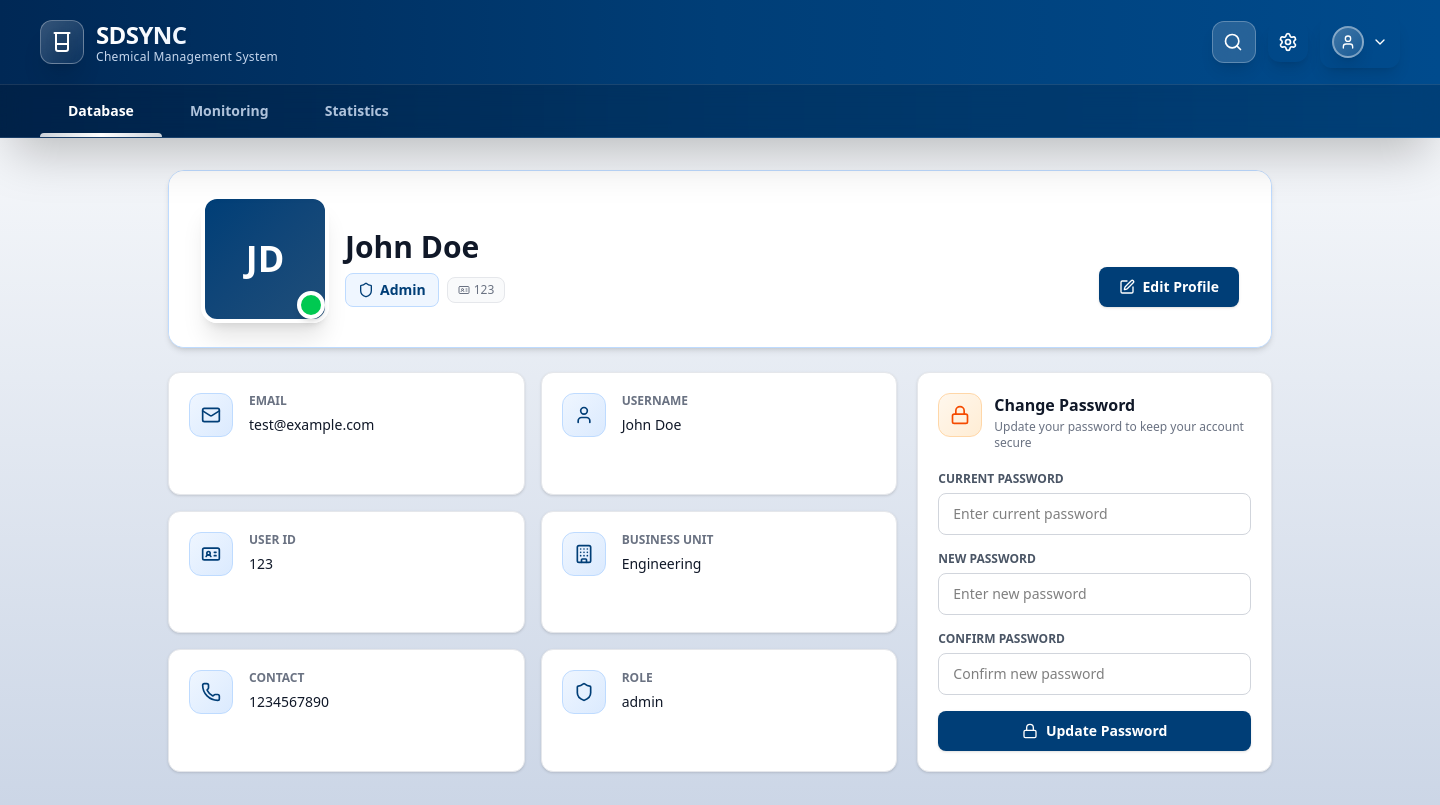
Scenario: Profile page › cancel button closes edit form
The width and height of the screenshot is (1440, 805).
Click the button "Edit Profile": (1169,287) 1098,267 -> 1239,307
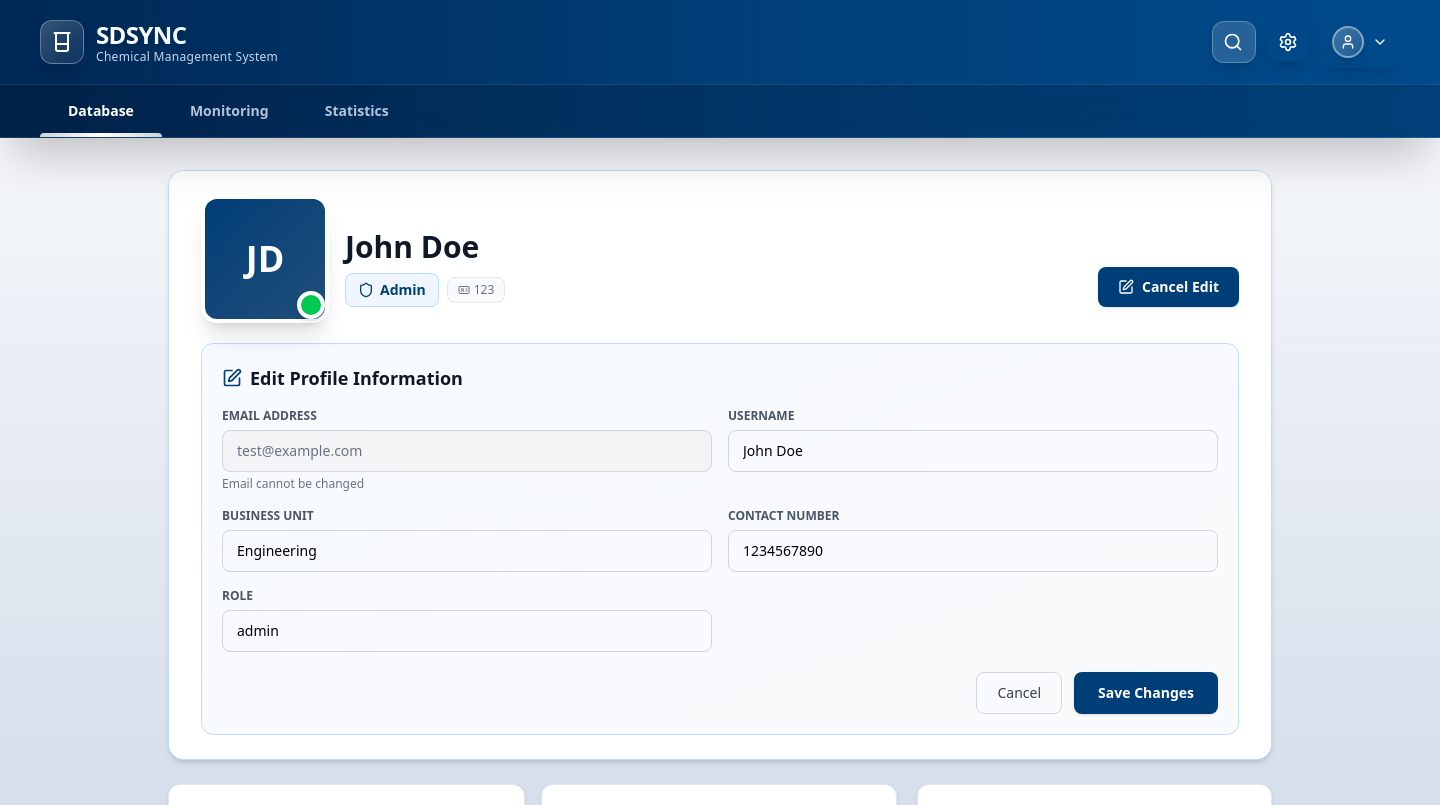
expect the form with test id "edit-profile-form" is shown: met, box 201,343 -> 1239,735
Click the button "Cancel Edit": (1168,287) 1098,267 -> 1239,307
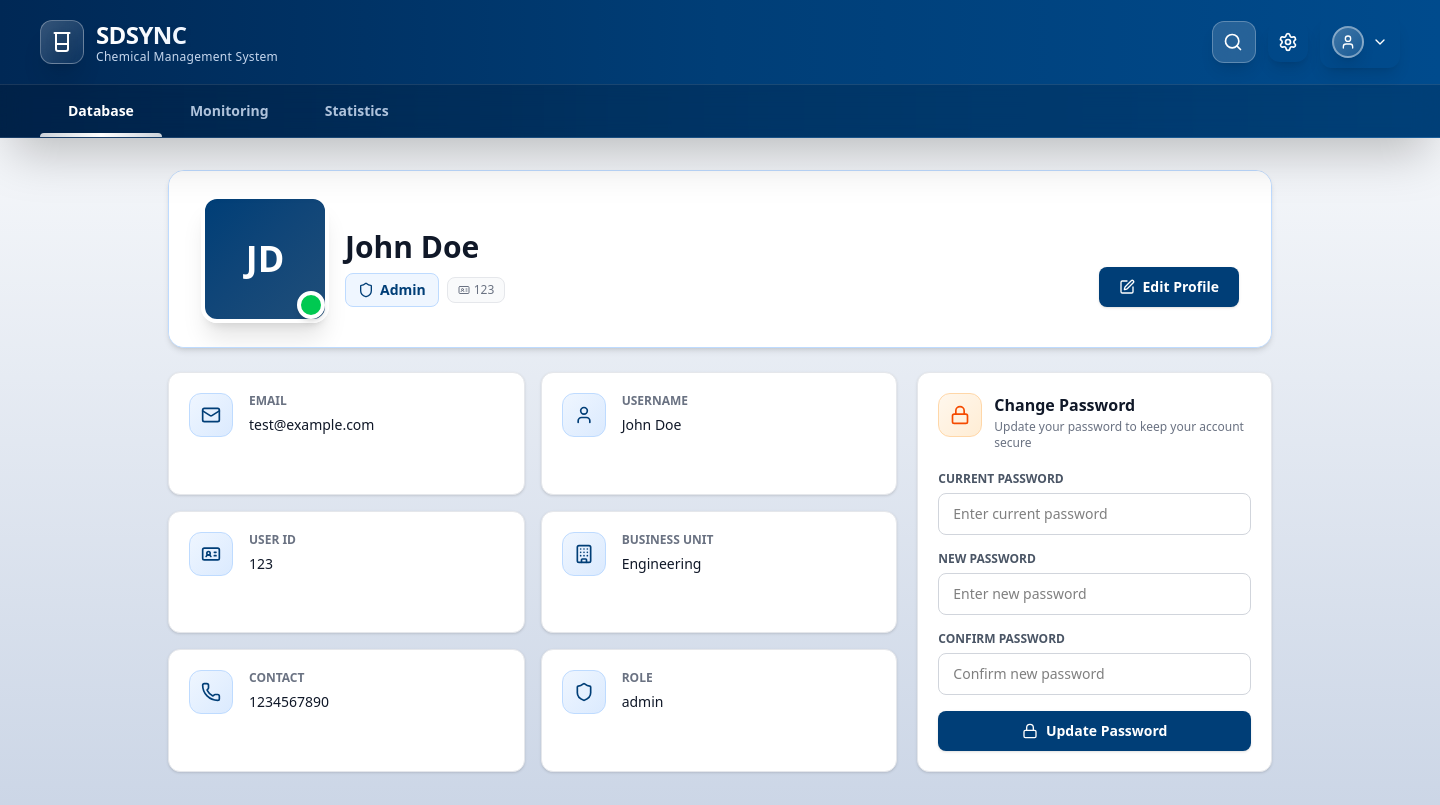
expect the form with test id "edit-profile-form" is gone: met
